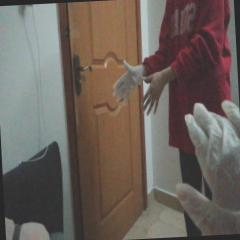gloved: (172, 100, 239, 238), (111, 57, 143, 108)
not-gloved: (141, 69, 168, 116)
